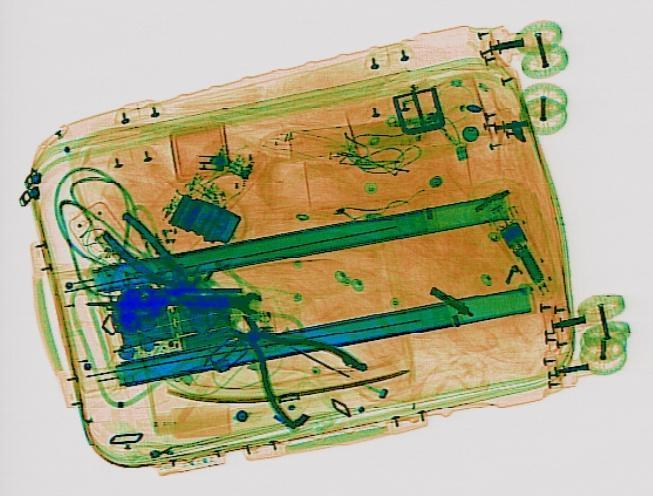Pliers: (187, 292, 382, 433), (90, 211, 230, 323)
